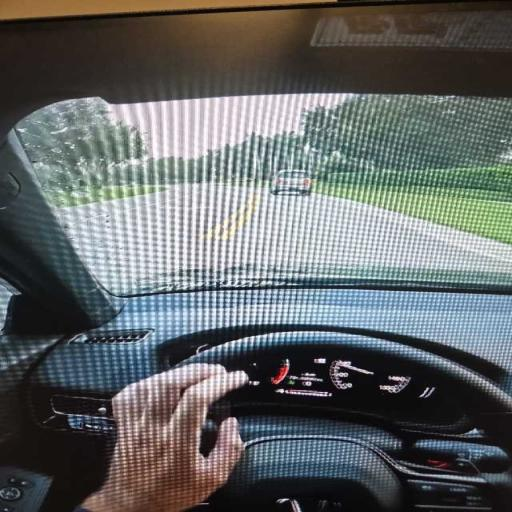car: (0, 0, 511, 511), (271, 170, 311, 195)
lane: (56, 184, 511, 293)
person: (79, 364, 247, 511)
